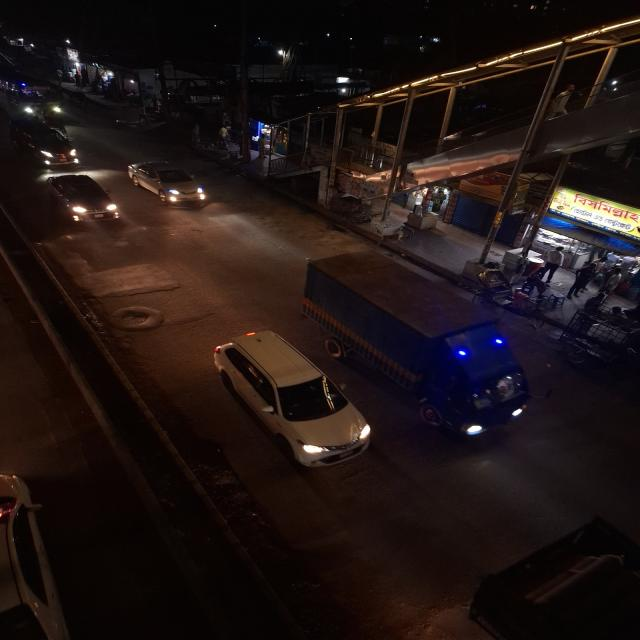bus: (0, 74, 66, 118)
car: (204, 326, 373, 472), (122, 159, 216, 211), (38, 171, 122, 225), (8, 120, 84, 168)
truck: (300, 252, 548, 448)
